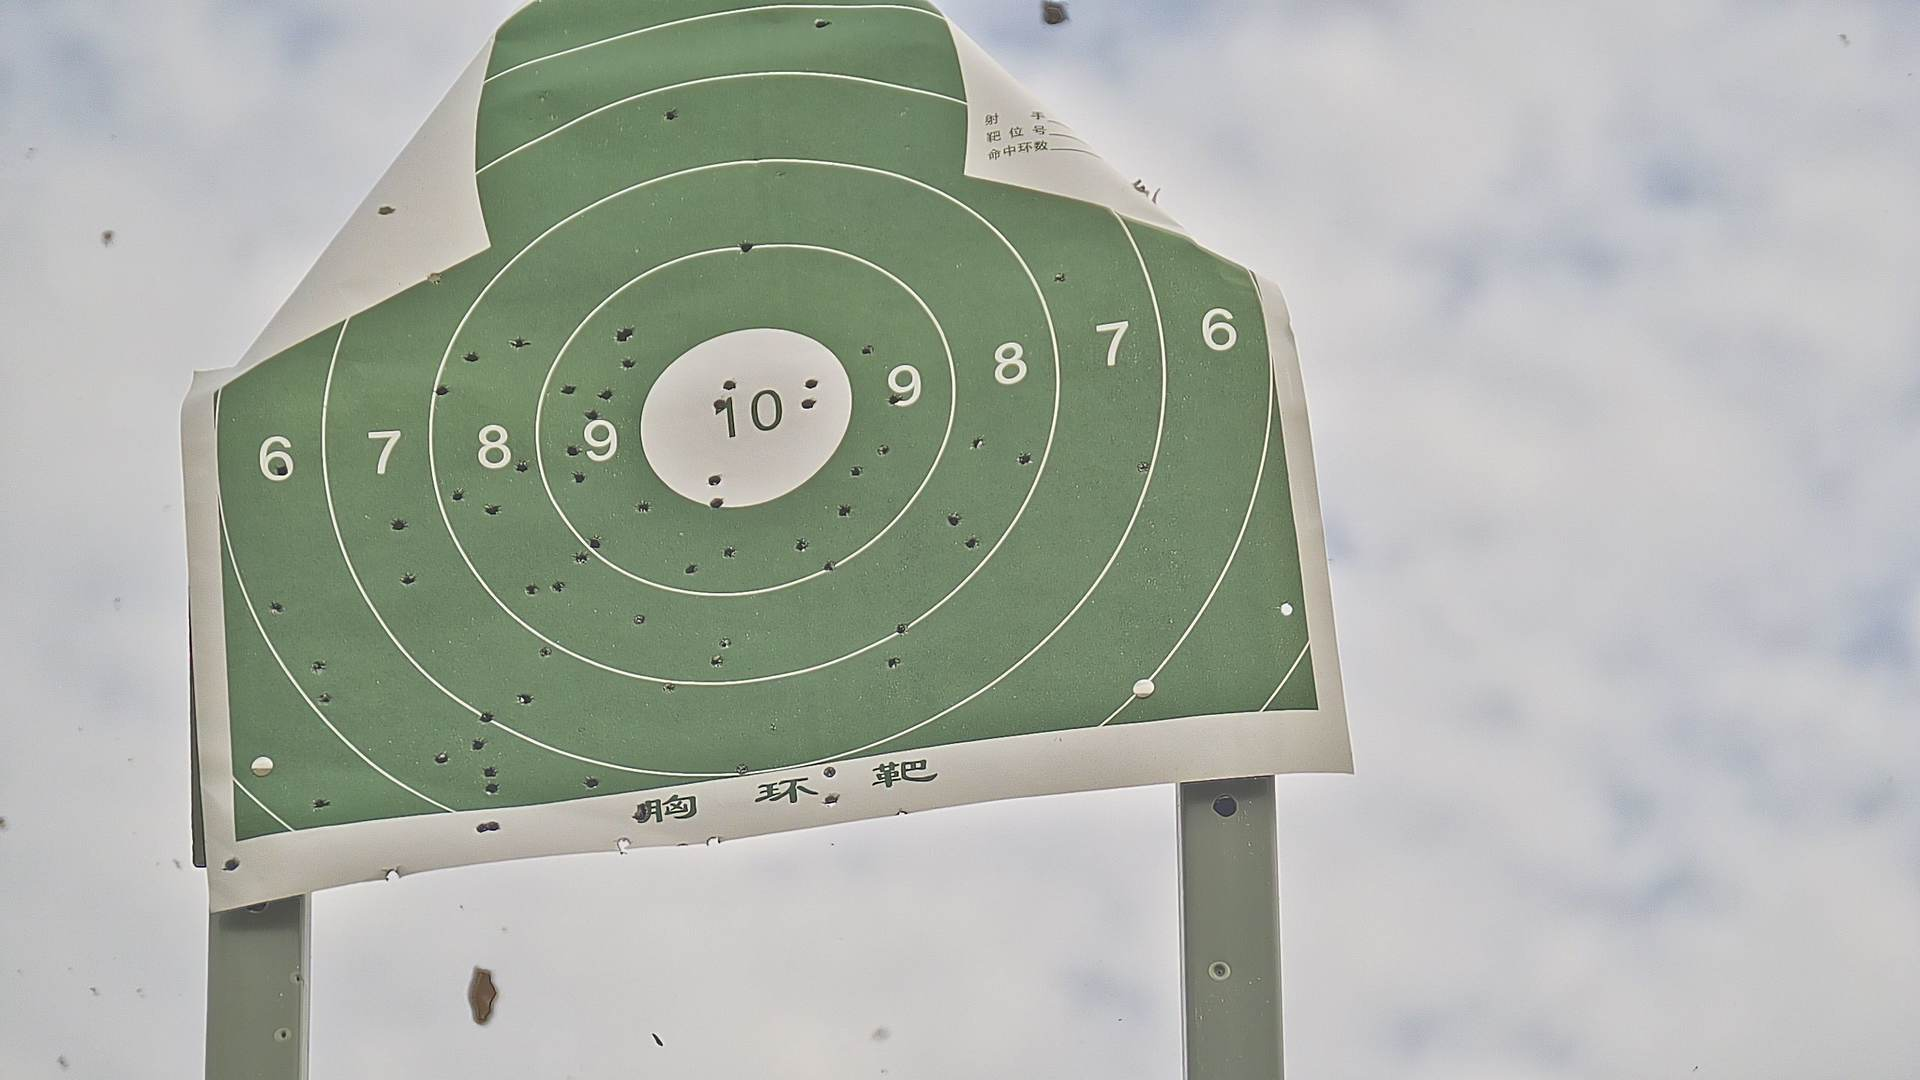hole: (633, 802, 653, 823), (811, 15, 829, 30), (313, 796, 332, 811), (434, 752, 451, 767), (1280, 600, 1294, 620), (389, 518, 409, 531), (620, 353, 636, 369), (551, 578, 567, 593), (968, 436, 985, 451), (721, 377, 738, 392), (887, 654, 901, 673), (1018, 454, 1034, 468), (849, 462, 864, 477), (823, 794, 839, 808), (712, 397, 728, 411), (560, 382, 576, 397), (311, 659, 326, 675), (316, 691, 332, 705), (705, 473, 723, 487), (484, 502, 501, 516), (584, 777, 603, 789), (897, 622, 911, 637), (799, 396, 814, 410), (401, 571, 415, 585), (516, 691, 530, 705), (964, 535, 980, 549), (793, 537, 808, 550), (661, 680, 676, 694), (574, 550, 588, 563), (877, 442, 889, 458), (723, 542, 735, 558), (858, 344, 876, 355), (825, 764, 839, 777), (709, 655, 723, 669), (615, 328, 628, 342), (514, 460, 527, 473), (434, 382, 447, 396), (1054, 270, 1065, 285), (839, 502, 851, 517), (822, 560, 833, 575), (600, 388, 612, 402), (584, 409, 599, 421), (448, 488, 463, 500), (538, 644, 553, 655), (949, 512, 960, 527), (477, 711, 493, 721), (663, 109, 676, 121), (1138, 460, 1151, 472), (634, 613, 647, 625), (472, 737, 484, 750), (484, 765, 497, 777), (277, 463, 289, 476), (270, 600, 284, 612), (566, 443, 580, 454), (462, 353, 477, 363), (684, 563, 696, 575), (636, 501, 647, 513), (709, 496, 723, 506), (622, 324, 636, 335), (576, 469, 587, 483), (589, 535, 600, 549), (487, 783, 500, 794), (889, 394, 901, 405), (736, 762, 748, 773), (804, 377, 816, 388), (720, 637, 732, 647), (514, 338, 525, 349), (525, 583, 537, 593), (741, 243, 753, 252), (477, 822, 487, 833), (491, 819, 500, 831)
kernel: (737, 415, 744, 417)
target: (212, 3, 1327, 848)
ten: (637, 324, 853, 513)
